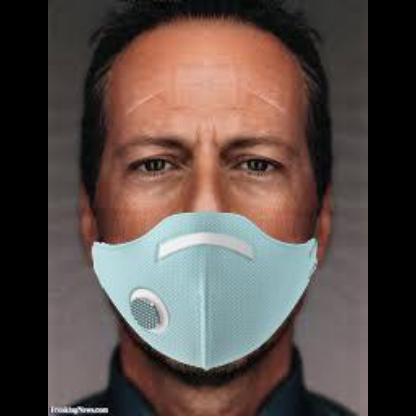FFP Mask: (76, 39, 322, 367)
